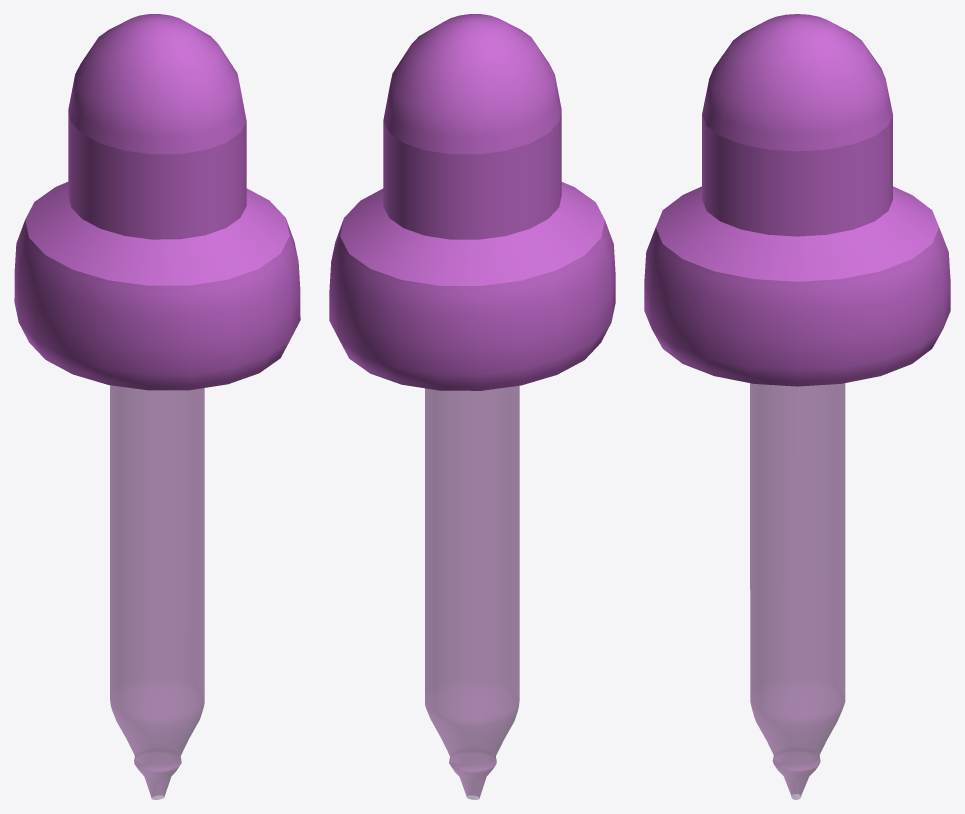
File: Dropper FBX.fbx
The picture shows the model from 3 angles, left to right: view 1: azimuth 30°, elevation 25°; view 2: azimuth 150°, elevation 25°; view 3: azimuth 270°, elevation 25°; orthographic projection.
Parts seen in each view (by area): view 1: pCylinder3; view 2: pCylinder3; view 3: pCylinder3.
Part boxes in pixels (<box>): pCylinder3: <box>14,14,300,799</box>; pCylinder3: <box>329,14,615,799</box>; pCylinder3: <box>644,14,950,799</box>.
Bounding box in the file's own units: 2.72 × 8.3 × 2.97.
